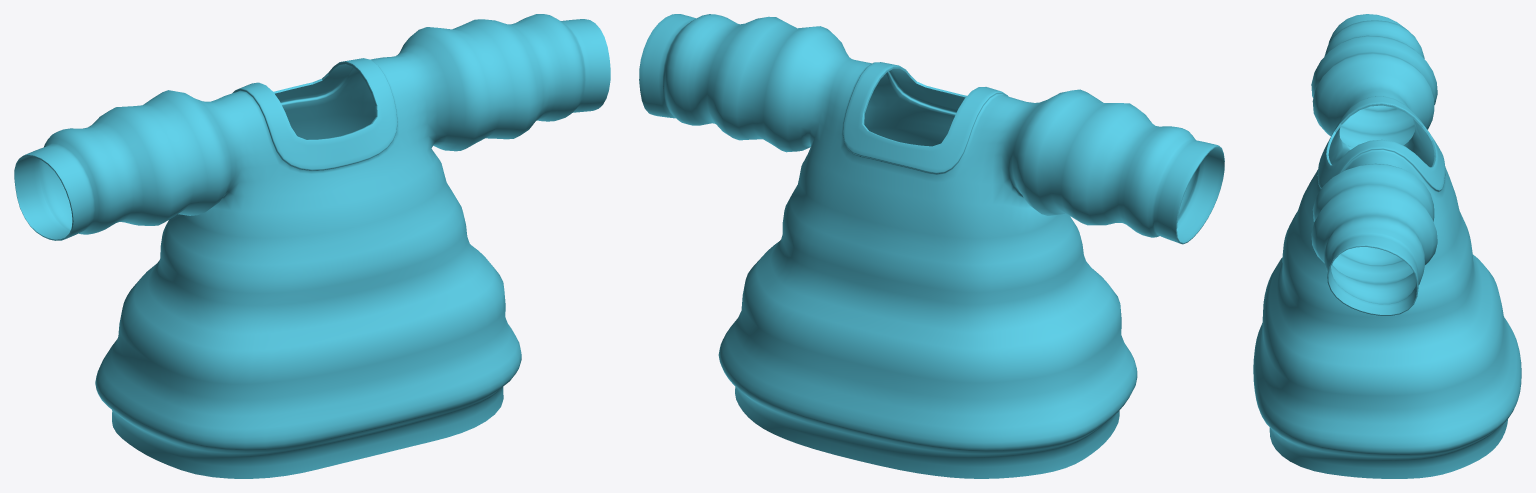
The model's file is Top_BalloonTop.fbx.
3 renders of one model, left to right at view 1: azimuth 30°, elevation 25°; view 2: azimuth 150°, elevation 25°; view 3: azimuth 270°, elevation 25°, orthographic. The views are drawn at different scales.
Visible parts, largest first — view 1: Pullover_base.007; view 2: Pullover_base.007; view 3: Pullover_base.007.
Part boxes in pixels (left/top/right/bottom): Pullover_base.007: left=14, top=14, right=610, bottom=478; Pullover_base.007: left=639, top=14, right=1224, bottom=478; Pullover_base.007: left=1253, top=14, right=1521, bottom=478.
Bounding box in the file's own units: 168 × 99.69 × 81.62.
